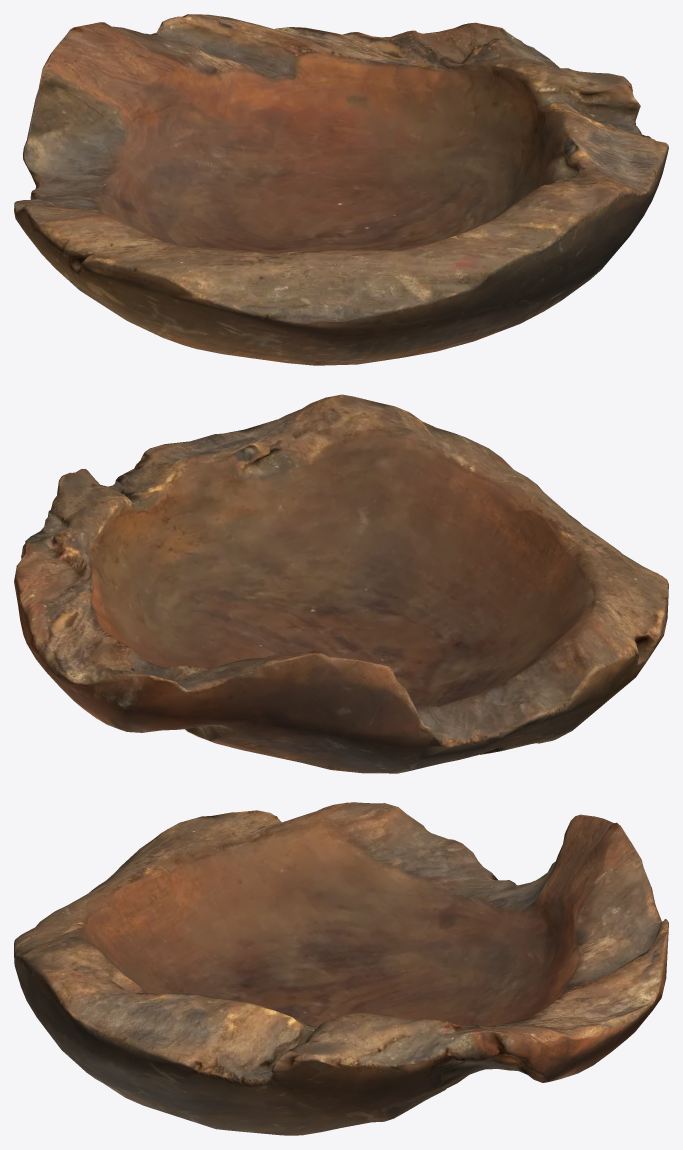
Rendered from wooden_bowl_01.glb.
The picture shows the model from 3 angles, top to bottom: view 1: azimuth 30°, elevation 25°; view 2: azimuth 150°, elevation 25°; view 3: azimuth 270°, elevation 25°; orthographic projection. The views are drawn at different scales.
Visible parts, largest first — view 1: wooden_bowl_01; view 2: wooden_bowl_01; view 3: wooden_bowl_01.
Part boxes in pixels (bbox=[...]): wooden_bowl_01: bbox=[14, 14, 668, 365]; wooden_bowl_01: bbox=[14, 394, 668, 773]; wooden_bowl_01: bbox=[14, 802, 668, 1135].
Size of the model in its own units: 0.313 by 0.0937 by 0.3091.
1 material, 1 textured.
